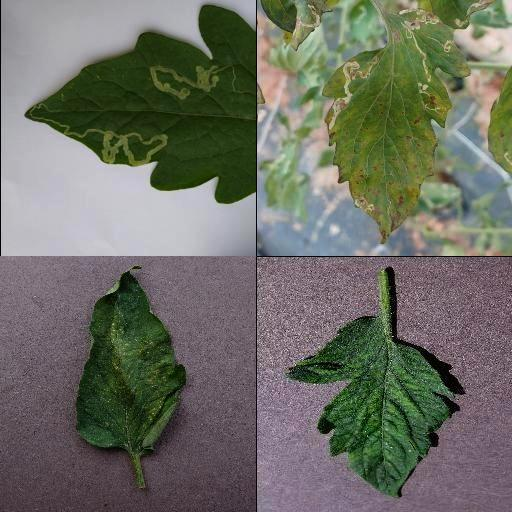Leaf Miner: (20, 4, 256, 204), (321, 7, 471, 246)
Mosaic Virus: (282, 316, 454, 500)
Spider Mites: (76, 266, 186, 456)
